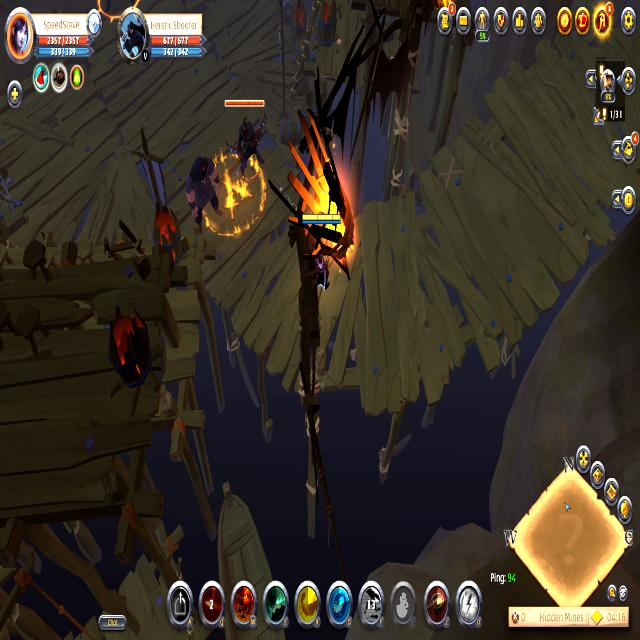ore: (222, 92, 274, 188), (184, 148, 228, 237), (95, 0, 142, 21)
red: (300, 208, 342, 300)
